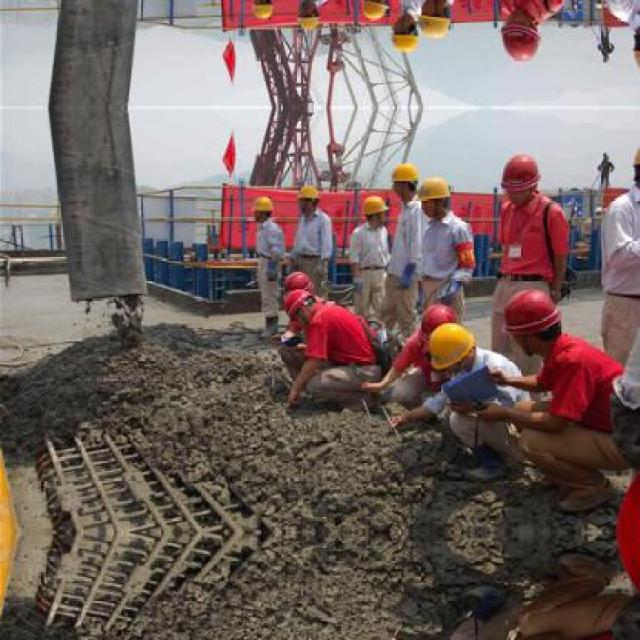helmet: (500, 283, 566, 354), (426, 314, 480, 378), (499, 150, 544, 204), (499, 8, 544, 62), (416, 172, 452, 215), (416, 0, 452, 42), (388, 13, 422, 55), (418, 300, 456, 337), (388, 158, 422, 199), (278, 265, 316, 298), (280, 283, 314, 317), (247, 190, 279, 224), (362, 191, 392, 227), (295, 178, 323, 216), (295, 0, 324, 35), (246, 0, 280, 23), (362, 0, 392, 22)
